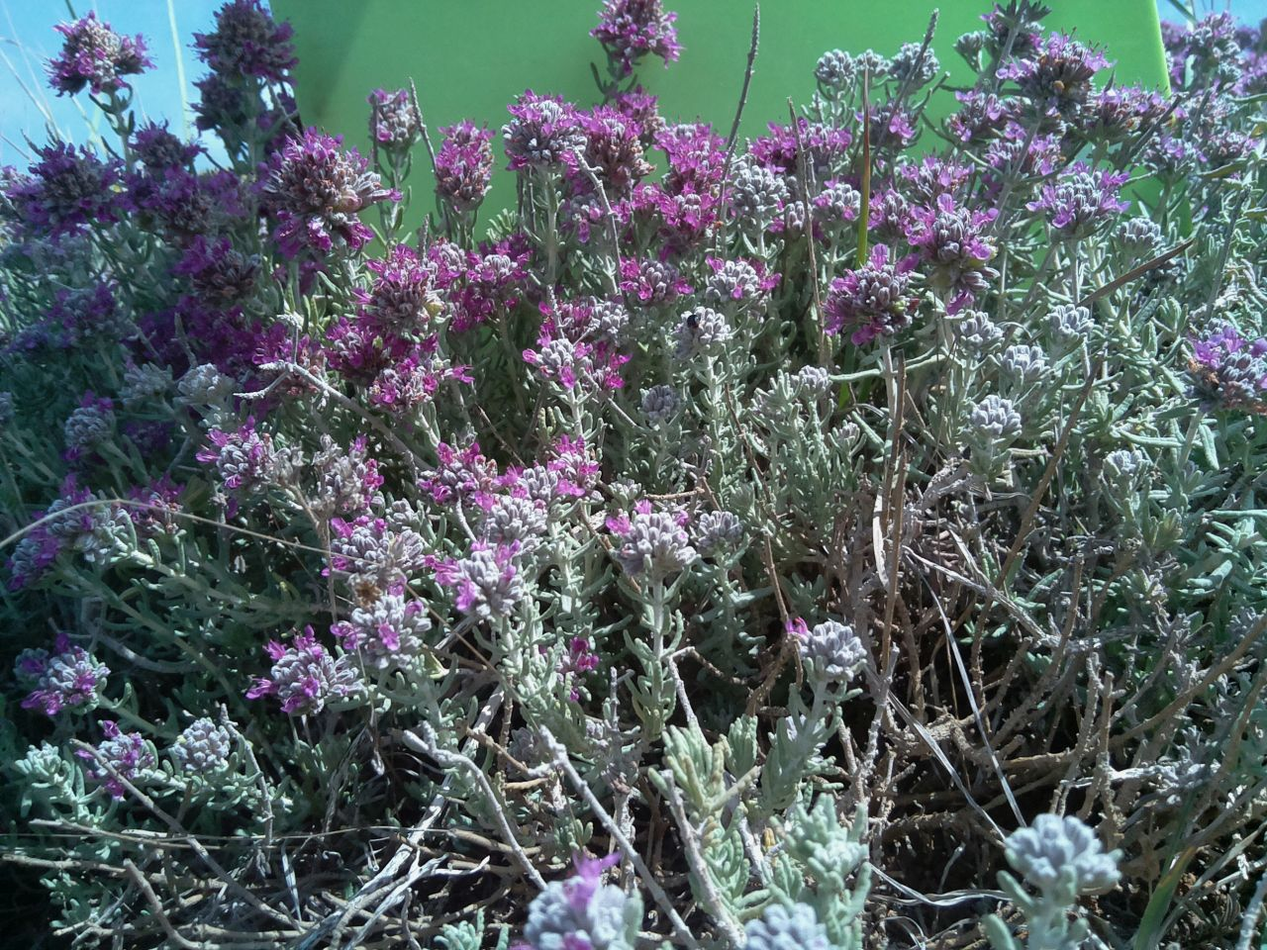Beetle: (681, 312, 704, 329)
